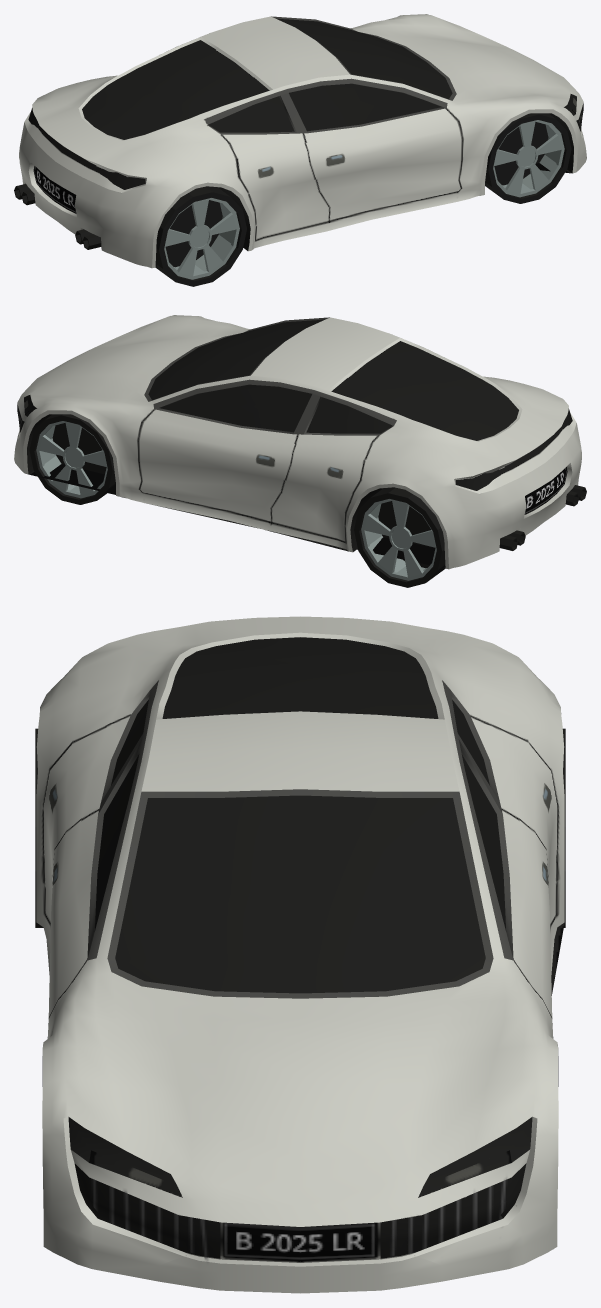
Rendered from P_CAR SEDAN.fbx.
The picture shows the model from 3 angles, top to bottom: view 1: azimuth 30°, elevation 25°; view 2: azimuth 150°, elevation 25°; view 3: azimuth 270°, elevation 25°; orthographic projection. The views are drawn at different scales.
Visible parts, largest first — view 1: Car_Sedan; view 2: Car_Sedan; view 3: Car_Sedan.
Part boxes in pixels (x1,y1,x2,y2): Car_Sedan: (14,14,586,286); Car_Sedan: (14,315,586,587); Car_Sedan: (35,616,565,1293).
Bounding box in the file's own units: 476 × 137 × 212.
